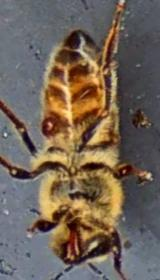varroa_mite: (27, 112, 76, 143)
